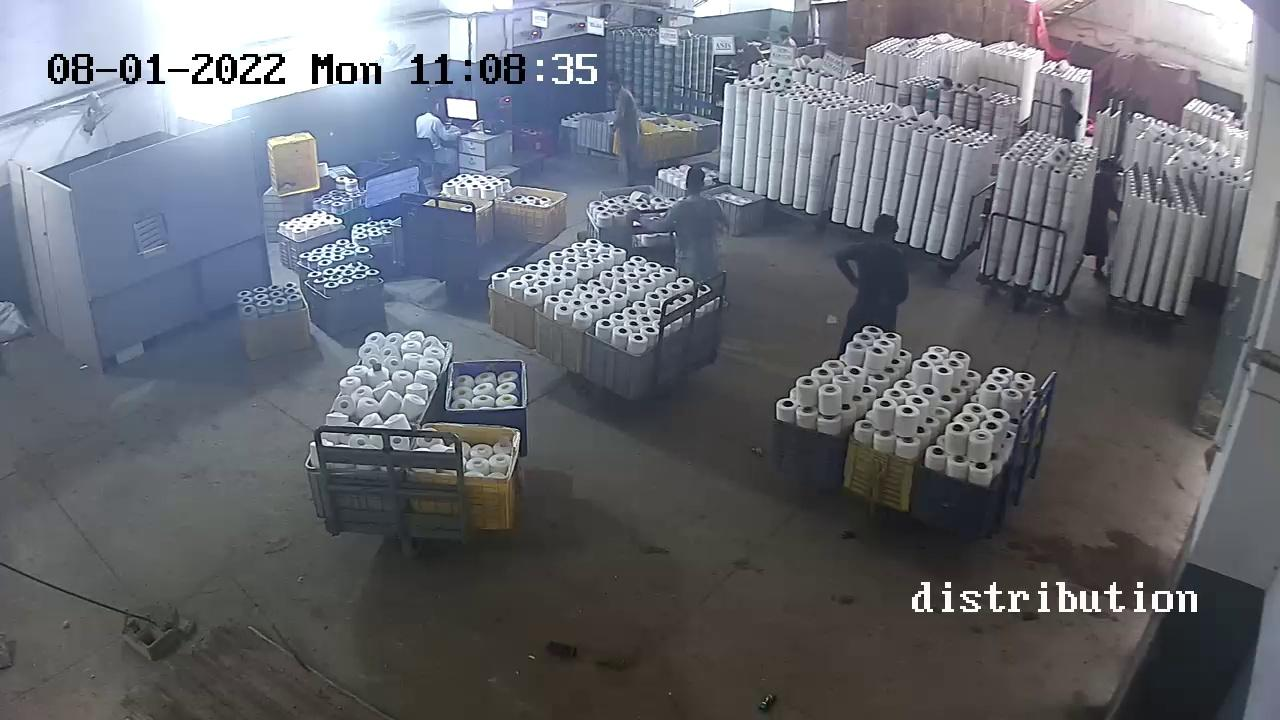person: (845, 215, 914, 315), (672, 158, 724, 280), (602, 75, 652, 200), (414, 108, 450, 148)
